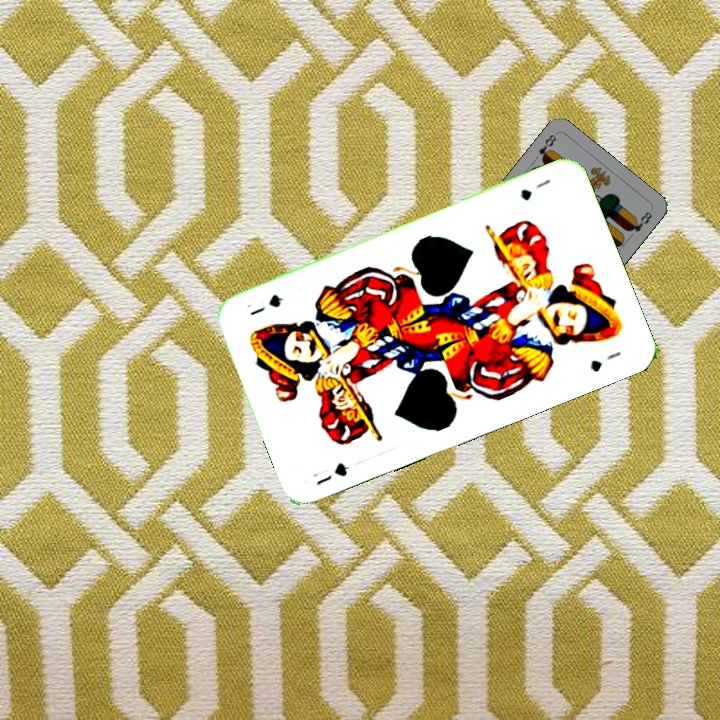E8: (534, 130, 559, 165)
GU: (308, 458, 353, 489), (516, 175, 553, 204)
